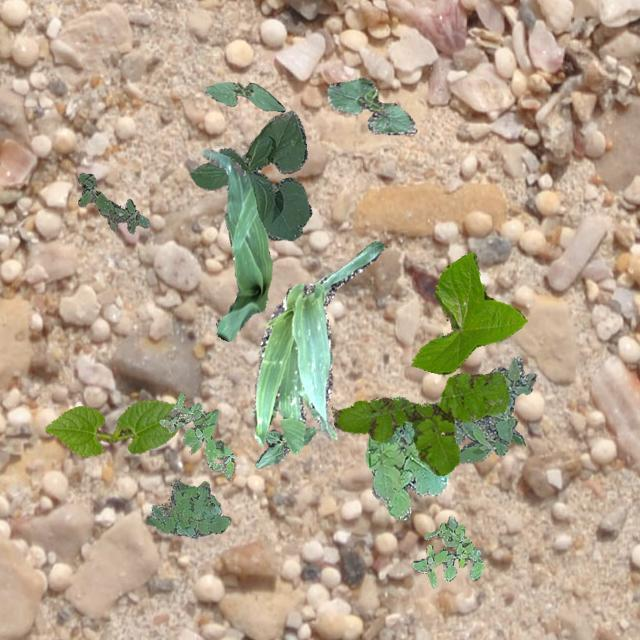crop: (252, 240, 382, 452), (188, 110, 310, 240), (412, 250, 526, 372), (200, 148, 272, 340), (44, 398, 176, 456), (326, 76, 416, 134), (254, 426, 316, 468), (202, 82, 284, 110)
weed: (332, 370, 508, 474), (452, 356, 536, 462), (364, 419, 448, 518), (158, 392, 234, 480), (412, 514, 482, 588), (144, 479, 230, 536), (78, 172, 148, 232)
